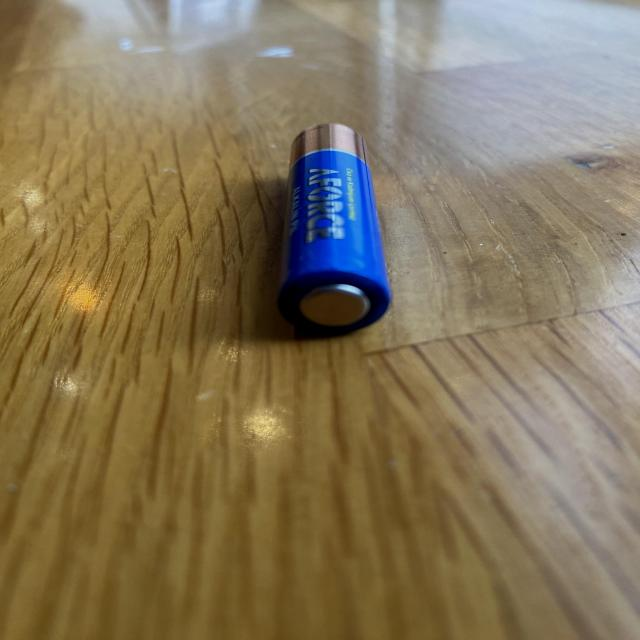AAA: (275, 120, 396, 342)
